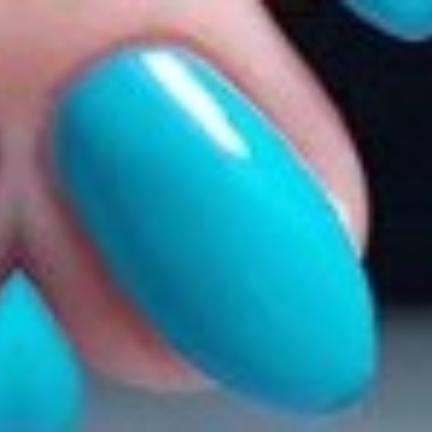Nail: (44, 42, 383, 417)
